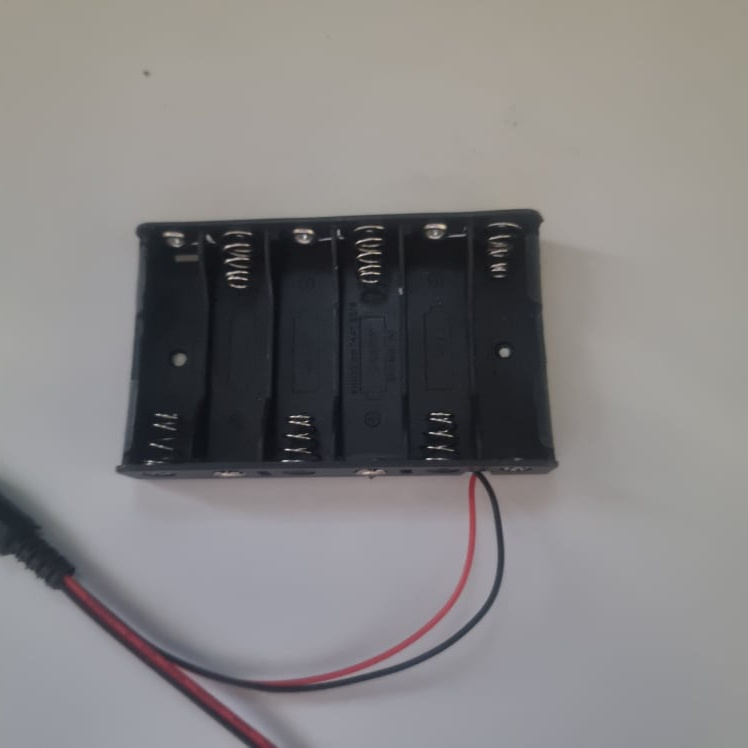BATTERY BOX: (115, 207, 561, 484)
